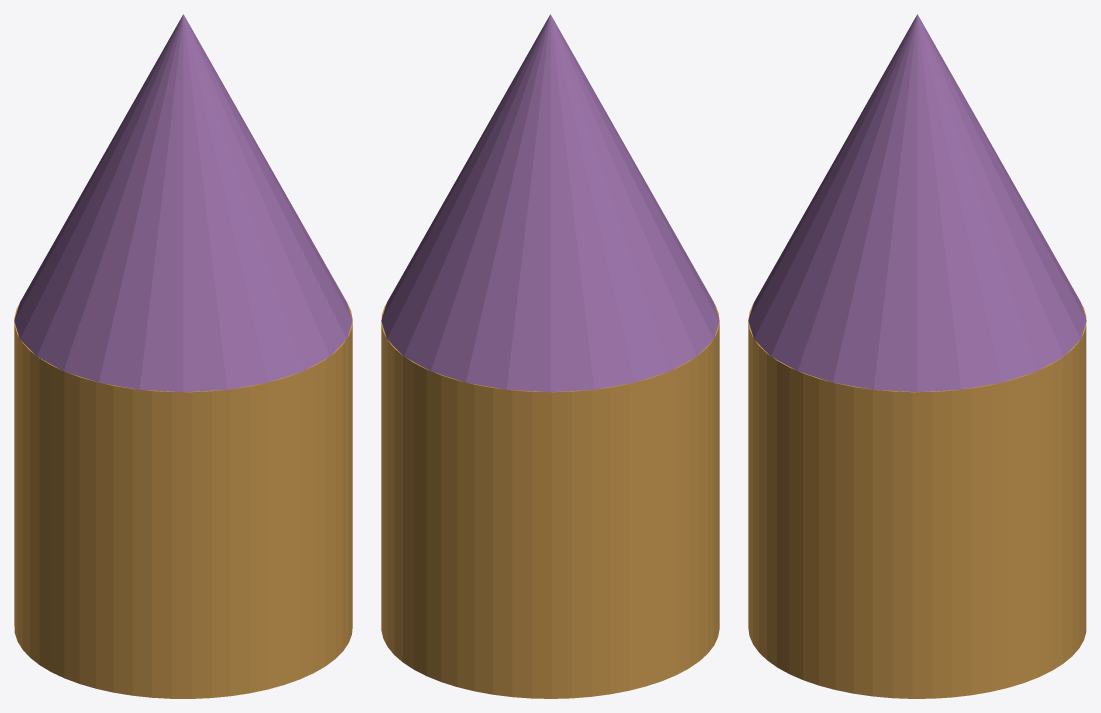
File: rechargeStation.glb
3 renders of one model, left to right at view 1: azimuth 30°, elevation 25°; view 2: azimuth 150°, elevation 25°; view 3: azimuth 270°, elevation 25°, orthographic.
Parts seen in each view (by area): view 1: Mesh_Mesh_head_geo.001_lambert2SG.001; view 2: Mesh_Mesh_head_geo.001_lambert2SG.001; view 3: Mesh_Mesh_head_geo.001_lambert2SG.001.
Part boxes in pixels (x1,y1,x2,y2): Mesh_Mesh_head_geo.001_lambert2SG.001: (14,14,352,698); Mesh_Mesh_head_geo.001_lambert2SG.001: (381,14,719,698); Mesh_Mesh_head_geo.001_lambert2SG.001: (748,14,1086,698).
Size of the model in its own units: 20 by 40 by 20.
